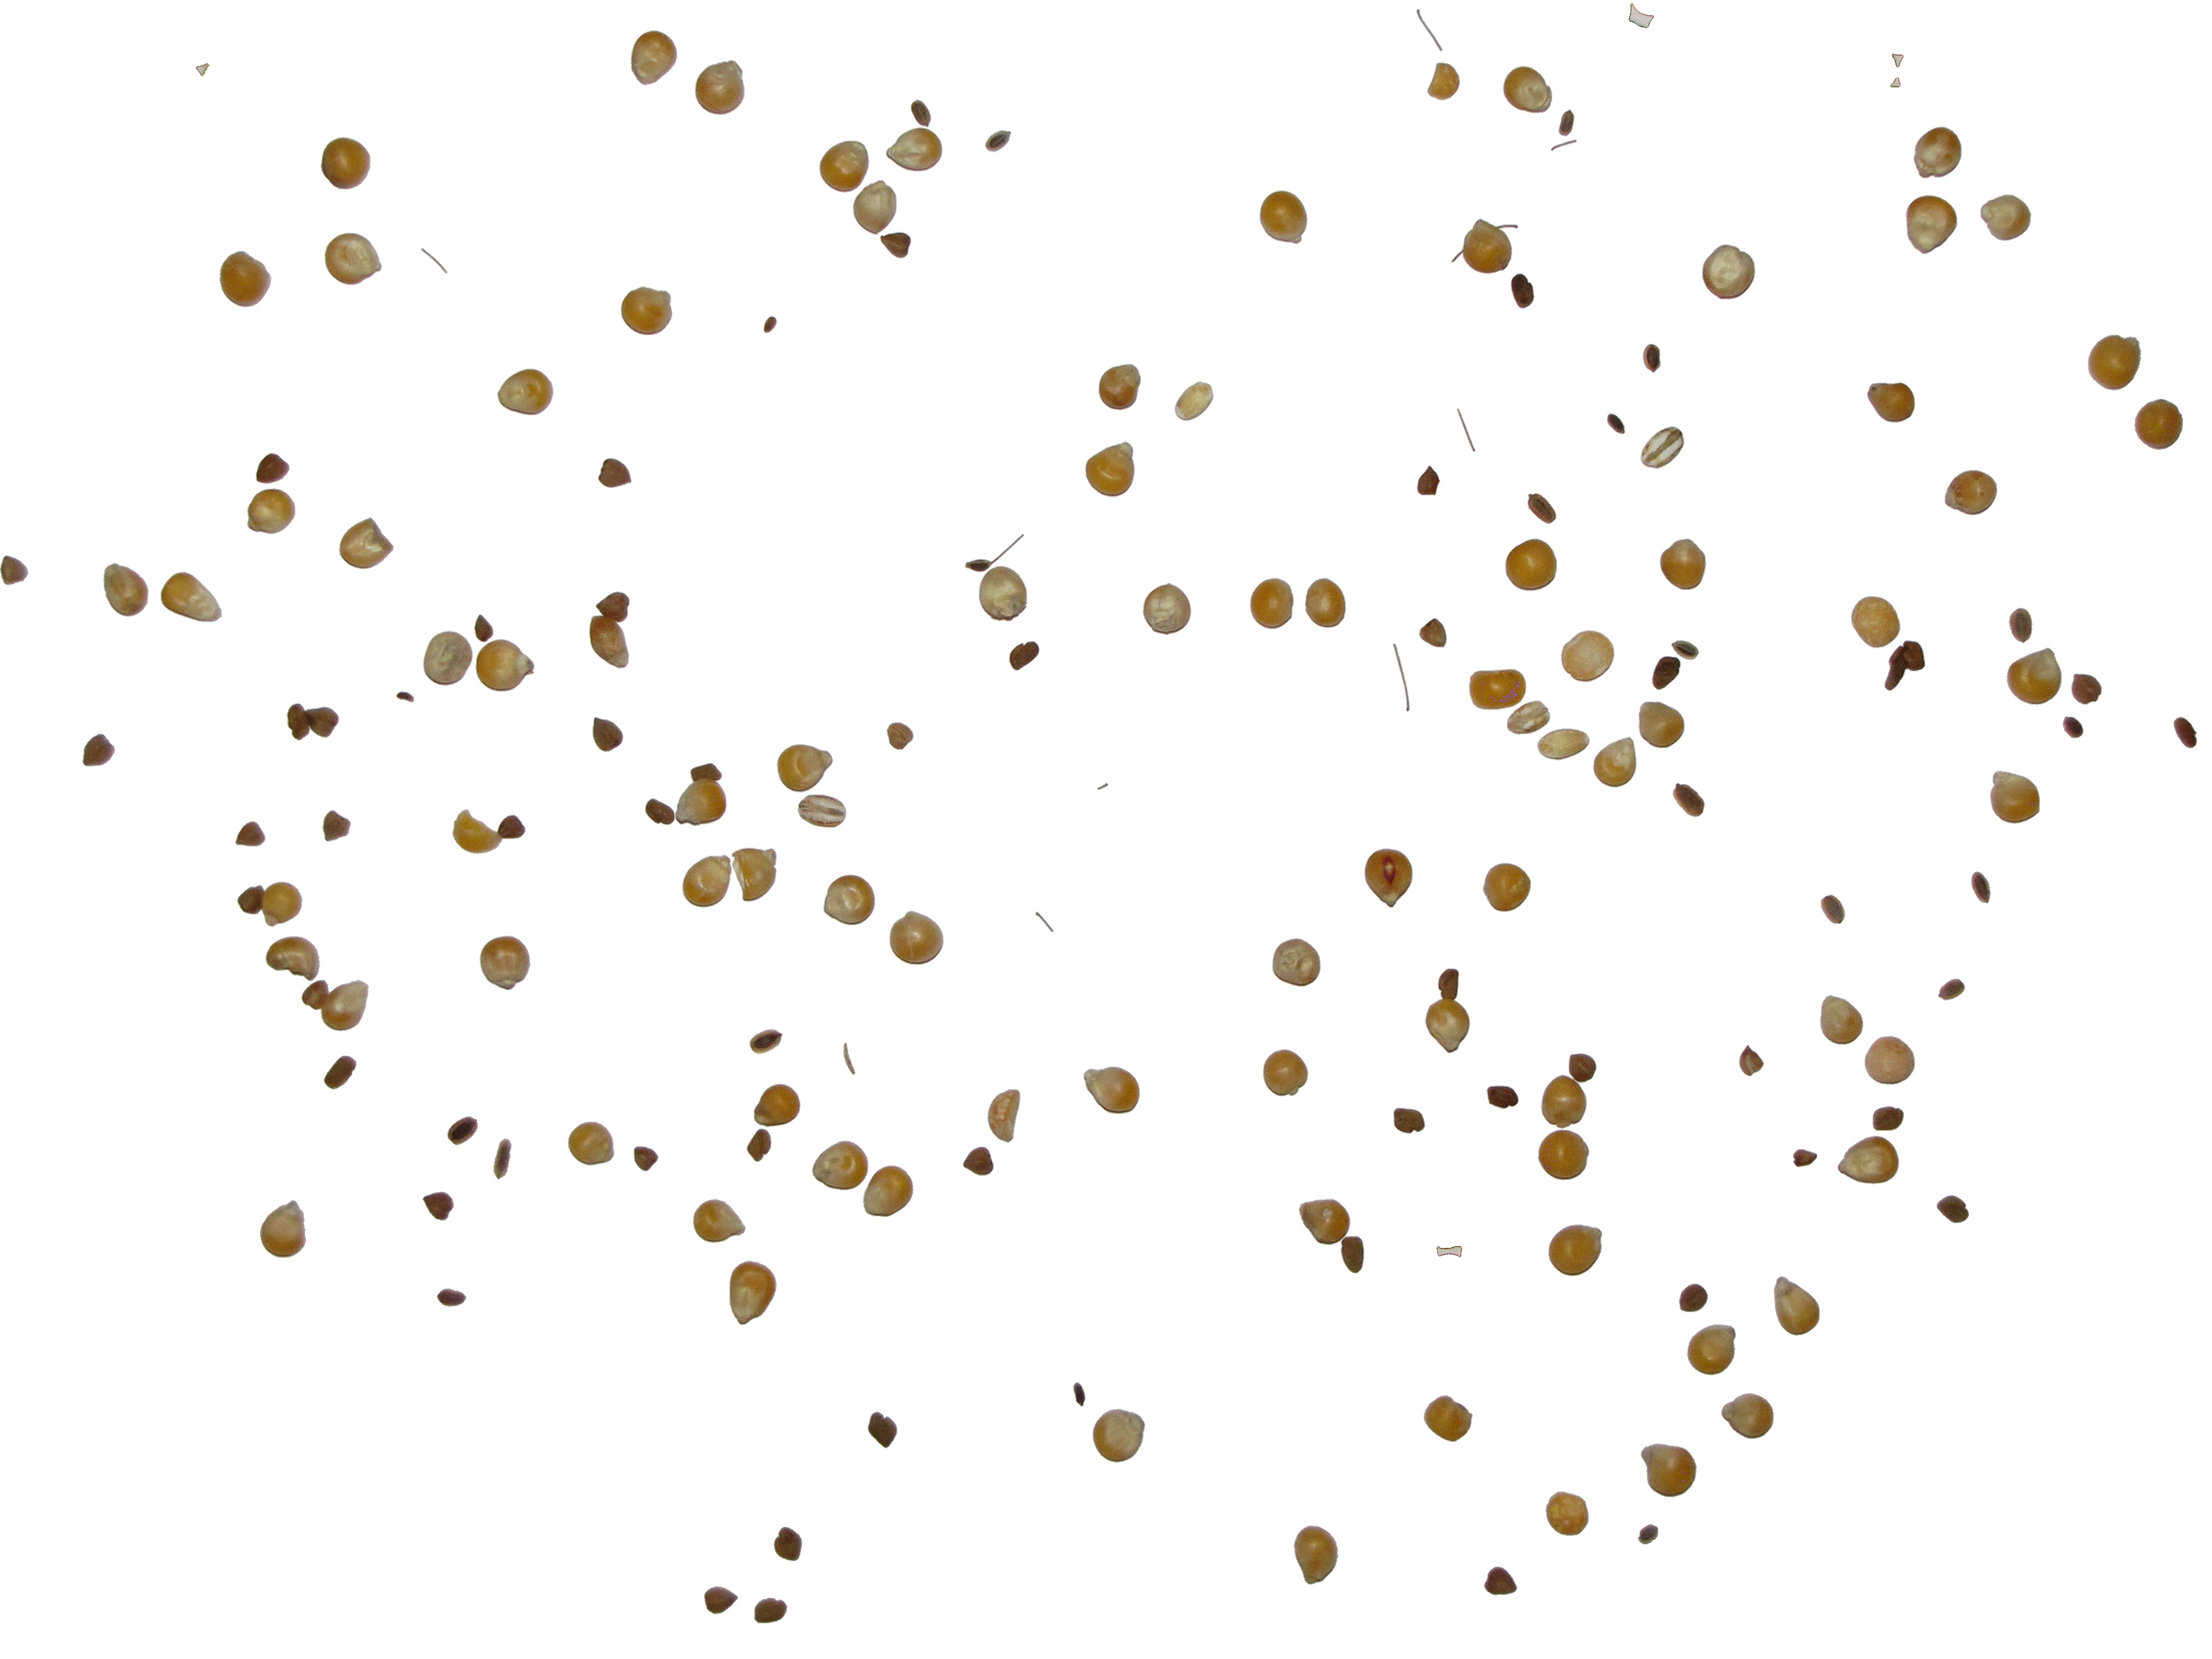buckwheat: (1885, 641, 1925, 690), (305, 704, 340, 735), (324, 1056, 355, 1089), (1674, 784, 1705, 817), (592, 718, 624, 751), (869, 1412, 897, 1448), (84, 734, 115, 765), (256, 453, 289, 483), (599, 458, 631, 488), (1484, 1567, 1517, 1595), (1653, 657, 1681, 690), (775, 1527, 801, 1561), (2073, 674, 2102, 704), (1341, 1236, 1364, 1272), (1527, 493, 1555, 523), (448, 1115, 477, 1143), (1010, 641, 1040, 669), (423, 1192, 453, 1220), (963, 1147, 993, 1175), (880, 232, 911, 258), (1937, 1195, 1968, 1222), (324, 810, 350, 842), (705, 1588, 737, 1614), (749, 1129, 773, 1162), (754, 1598, 787, 1622), (1512, 274, 1534, 308), (2012, 608, 2034, 643), (0, 556, 28, 584), (1679, 1284, 1707, 1312), (644, 798, 674, 824), (1872, 1107, 1904, 1131), (1393, 1108, 1425, 1133), (1420, 619, 1446, 647), (1569, 1054, 1595, 1082), (235, 821, 265, 845), (751, 1030, 782, 1053), (1487, 1086, 1519, 1108), (887, 723, 913, 749), (2174, 718, 2196, 748), (1740, 1046, 1763, 1075), (493, 1140, 510, 1178), (1822, 896, 1844, 924), (1418, 465, 1439, 495), (1972, 871, 1991, 903), (632, 1147, 657, 1171), (1939, 979, 1965, 1000), (911, 99, 930, 127), (986, 131, 1010, 152), (1672, 641, 1698, 660), (1642, 345, 1660, 373), (475, 615, 493, 641), (437, 1288, 465, 1303), (1559, 110, 1575, 136), (2064, 716, 2083, 737), (1639, 1525, 1658, 1544), (1608, 413, 1625, 434), (1794, 1150, 1817, 1166), (1075, 1382, 1085, 1406), (397, 692, 413, 702)
dill: (981, 535, 1024, 568), (1393, 645, 1409, 711), (1458, 410, 1475, 451), (1421, 19, 1442, 51), (843, 1042, 855, 1075), (1036, 911, 1054, 932), (430, 256, 448, 274), (1552, 139, 1576, 150), (1437, 1246, 1461, 1256), (765, 315, 777, 331), (197, 64, 209, 75), (1418, 10, 1423, 21)
mais: (475, 640, 535, 692), (1641, 1443, 1696, 1497), (2006, 648, 2060, 704), (162, 572, 221, 622), (730, 1262, 777, 1324), (219, 251, 272, 307), (2088, 335, 2141, 390), (1838, 1136, 1898, 1183), (890, 911, 944, 964), (1703, 246, 1756, 300), (326, 234, 381, 284), (1907, 195, 1956, 253), (1366, 849, 1413, 908), (1505, 538, 1557, 591), (340, 518, 394, 568), (1561, 631, 1615, 681), (1548, 1225, 1602, 1276), (1463, 220, 1512, 275), (1094, 1410, 1144, 1462), (1085, 443, 1134, 497), (481, 936, 529, 990), (423, 631, 472, 685), (813, 1141, 867, 1190), (695, 61, 744, 115), (777, 744, 833, 791), (1083, 1066, 1139, 1114), (824, 875, 874, 925), (1851, 596, 1900, 648), (1259, 192, 1308, 244), (683, 856, 732, 908), (1991, 772, 2040, 824), (631, 31, 678, 85), (979, 566, 1026, 620), (498, 369, 554, 415), (1775, 1277, 1818, 1335), (1294, 1527, 1338, 1584), (1143, 584, 1191, 634), (864, 1166, 913, 1216), (820, 141, 869, 192), (1538, 1131, 1588, 1180), (620, 288, 672, 335), (322, 138, 369, 190), (1541, 1075, 1587, 1129), (887, 127, 942, 171), (261, 1201, 305, 1256), (1425, 997, 1468, 1053), (676, 777, 725, 826), (319, 981, 368, 1030), (2135, 399, 2182, 450), (1914, 127, 1961, 178), (1688, 1324, 1735, 1375), (732, 849, 777, 901), (853, 181, 897, 235), (1503, 66, 1552, 113), (1484, 863, 1531, 911), (1865, 1037, 1914, 1084), (1980, 195, 2031, 240), (1299, 1199, 1350, 1244), (1660, 538, 1705, 589), (693, 1199, 745, 1243), (266, 938, 319, 981), (1721, 1394, 1773, 1438), (105, 565, 148, 617), (1470, 669, 1526, 709), (1273, 939, 1320, 986), (247, 488, 296, 533), (1251, 579, 1294, 629), (1946, 471, 1996, 514), (1425, 1396, 1472, 1441), (1594, 737, 1635, 788), (1639, 702, 1684, 748), (1264, 1049, 1308, 1096), (1820, 995, 1862, 1044), (453, 810, 498, 854), (754, 1084, 801, 1126), (1306, 579, 1346, 627), (1099, 364, 1141, 410), (568, 1122, 613, 1164), (1547, 1492, 1588, 1535), (260, 882, 301, 925), (1867, 383, 1914, 422), (988, 1089, 1021, 1143), (589, 619, 624, 667), (1428, 63, 1460, 99), (1097, 784, 1108, 789)
other: (1641, 427, 1684, 469), (798, 795, 846, 828), (1538, 728, 1588, 760), (1176, 382, 1214, 420), (1507, 701, 1550, 734), (1629, 3, 1653, 28)
